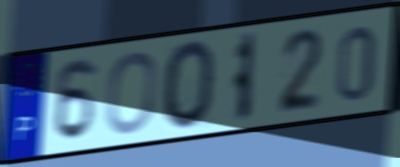0: (334, 23, 382, 104)
1: (232, 29, 259, 126)
2: (278, 27, 324, 117)
6: (51, 56, 99, 145)
O: (162, 37, 217, 134), (103, 48, 160, 136)
